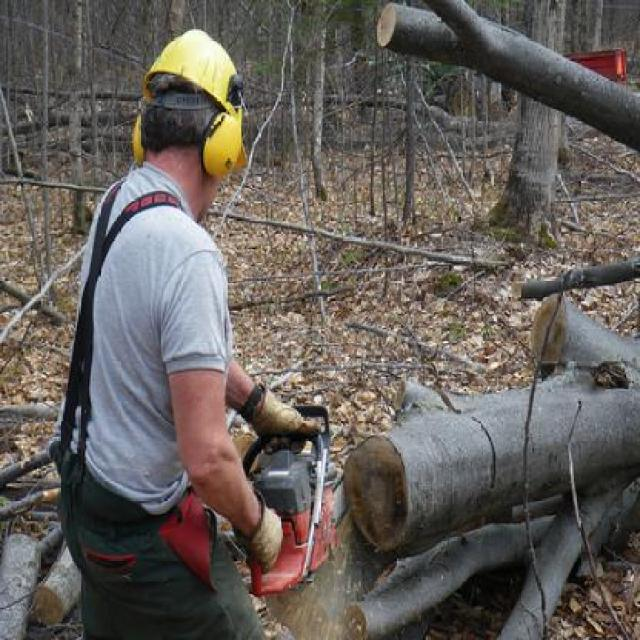Chainsaw: (243, 406, 349, 597)
